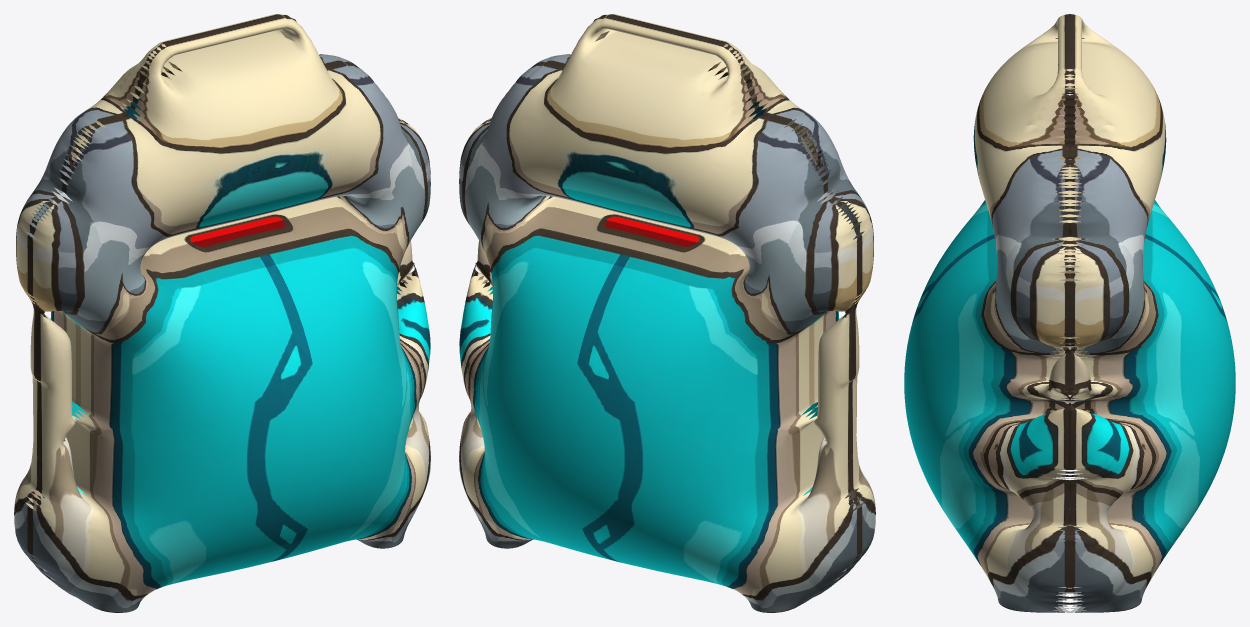
Rendered from side_gate.glb.
3 views of the same model, side by side, from view 1: azimuth 30°, elevation 25°; view 2: azimuth 150°, elevation 25°; view 3: azimuth 270°, elevation 25° (orthographic). The views are drawn at different scales.
Parts seen in each view (by area): view 1: side_gate; view 2: side_gate; view 3: side_gate.
Boxes of the visible parts, x1,y1,x2,y2 form: side_gate: [14, 14, 430, 612]; side_gate: [459, 14, 875, 612]; side_gate: [904, 14, 1235, 612].
Size of the model in its own units: 0.9858 by 1.27 by 0.7669.
1 material, 1 textured.
